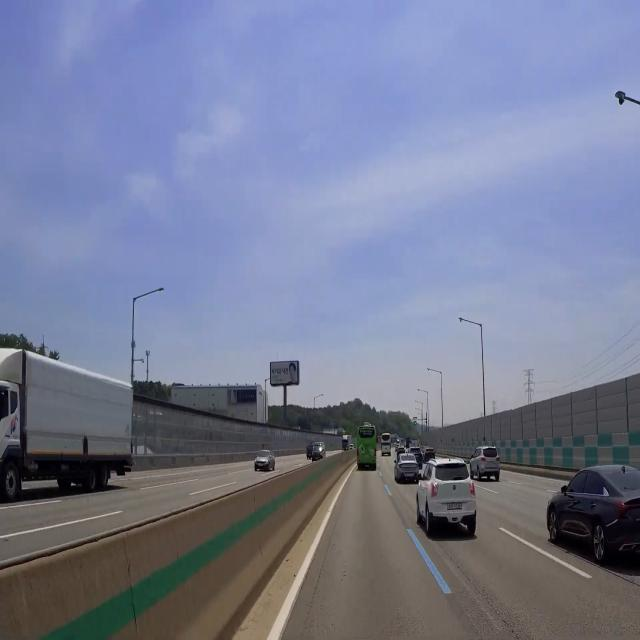car: (443, 499, 467, 516)
